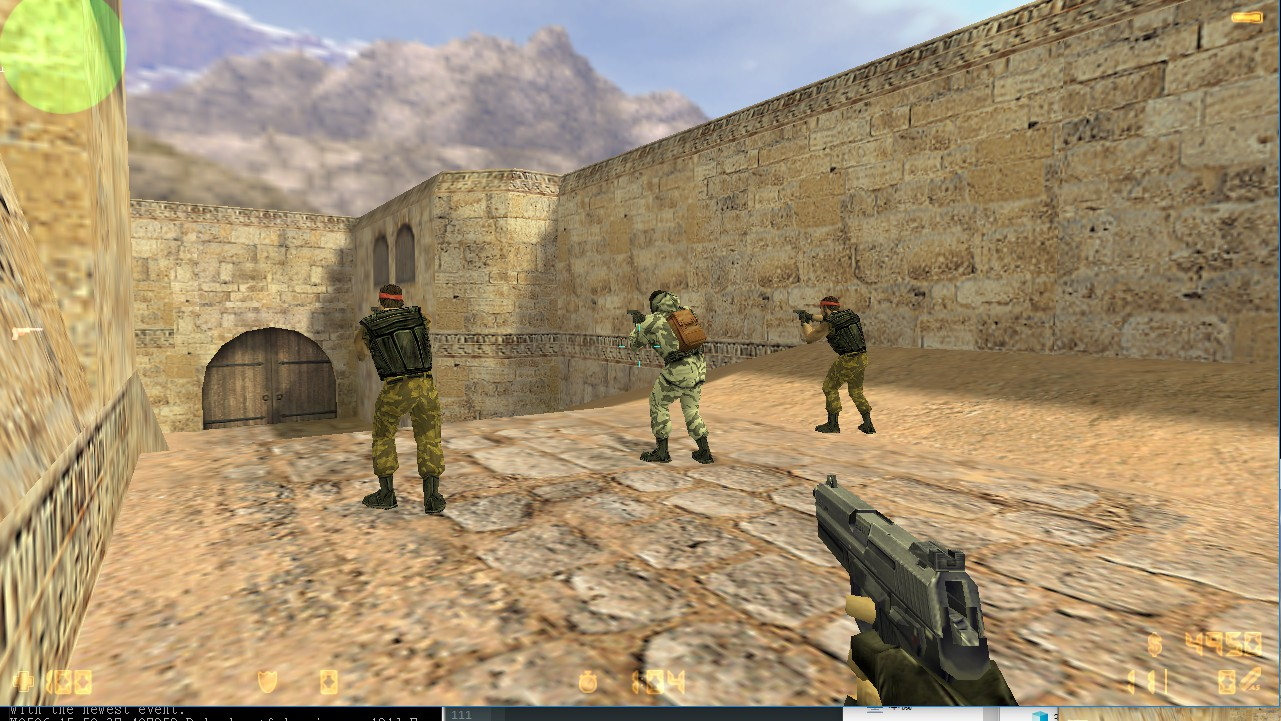person: (348, 281, 454, 521), (624, 286, 720, 467), (792, 286, 883, 444)
